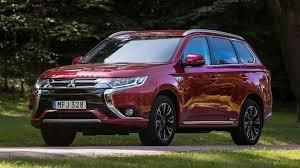license-plates: (55, 101, 86, 109)
